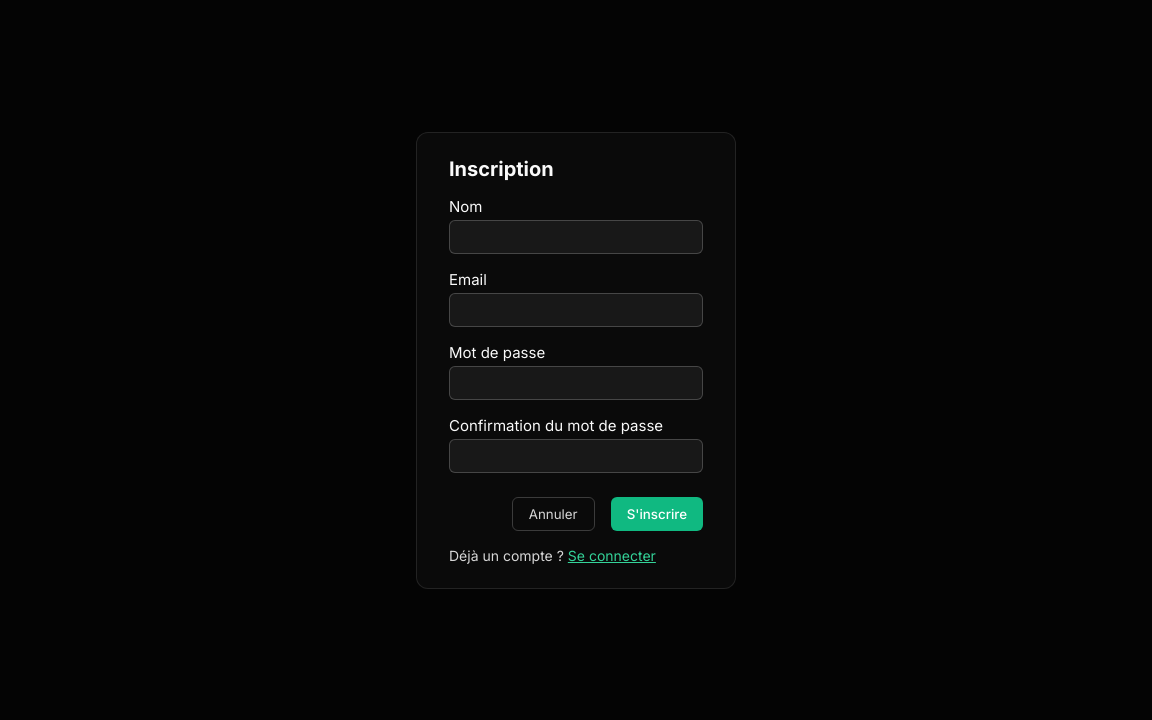
RegisterModal › affiche une erreur en cas d'échec de l'API
Type "Test" into the field labelled "Nom". click: (576, 236)
box: [449,220,703,254]
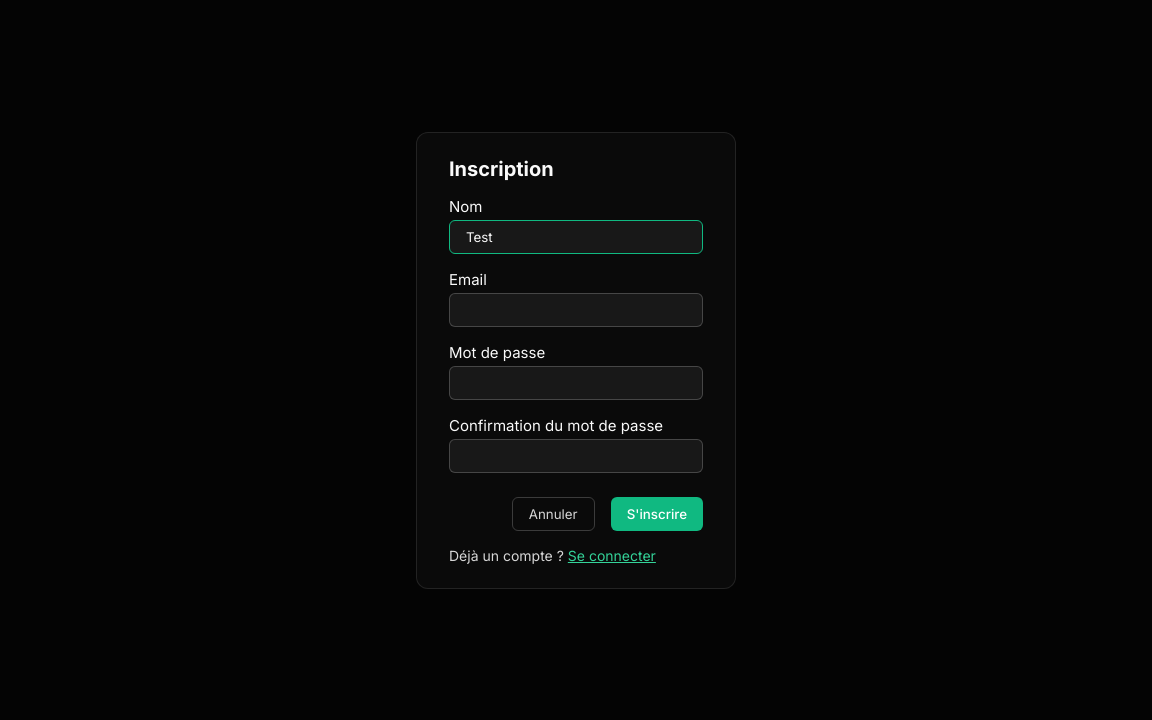
Type "dup@example.com" into the field labelled "Email". click: (576, 310)
box: [449,292,703,326]
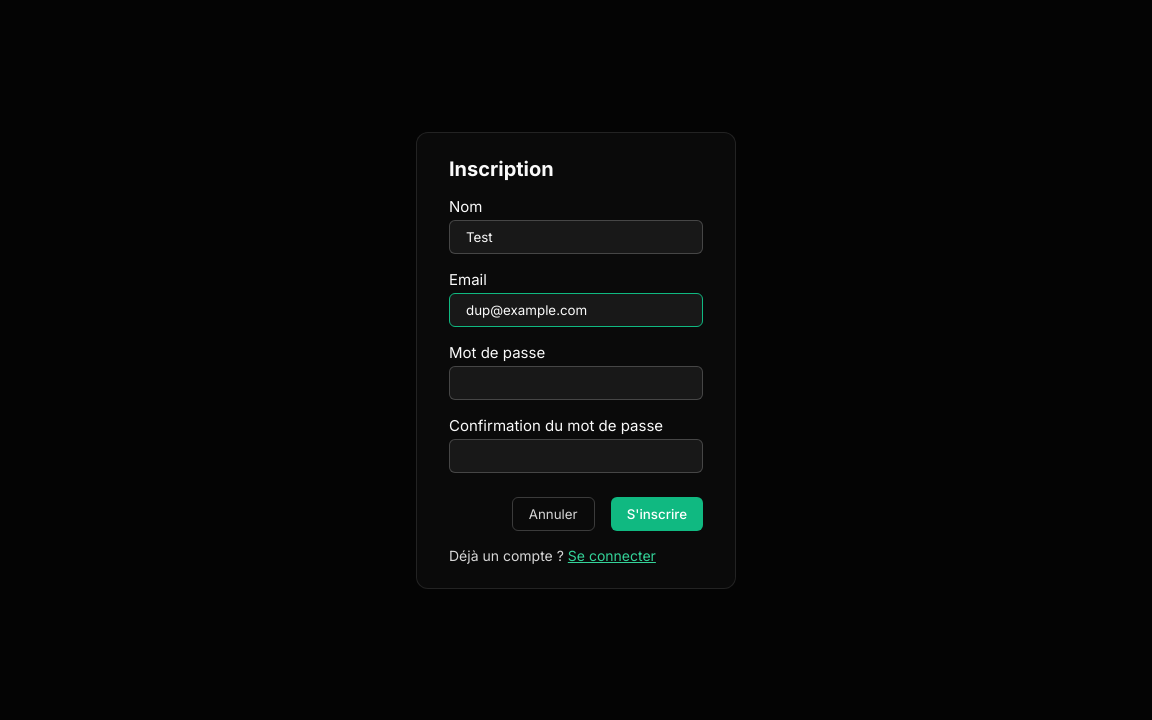
Type "pass" into the password field labelled "Mot de passe". click: (576, 382)
box: [449,366,703,400]
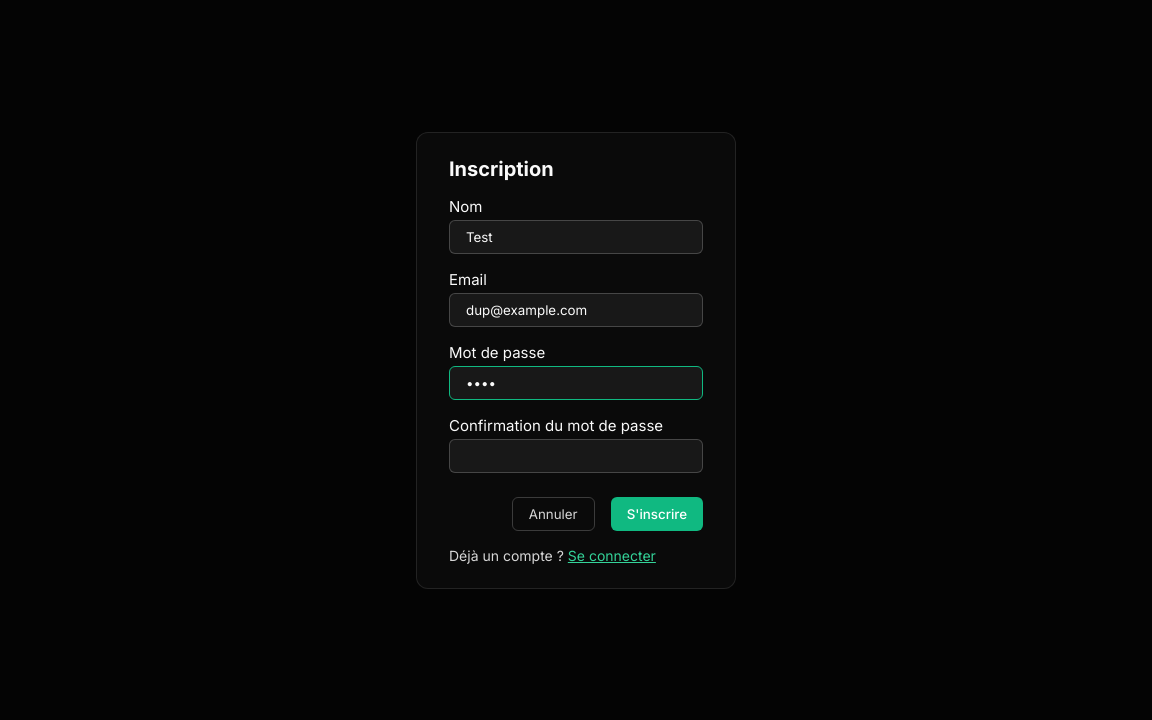
Type "pass" into the password field labelled "Confirmation du mot de passe". click: (576, 456)
box: [449,438,703,472]
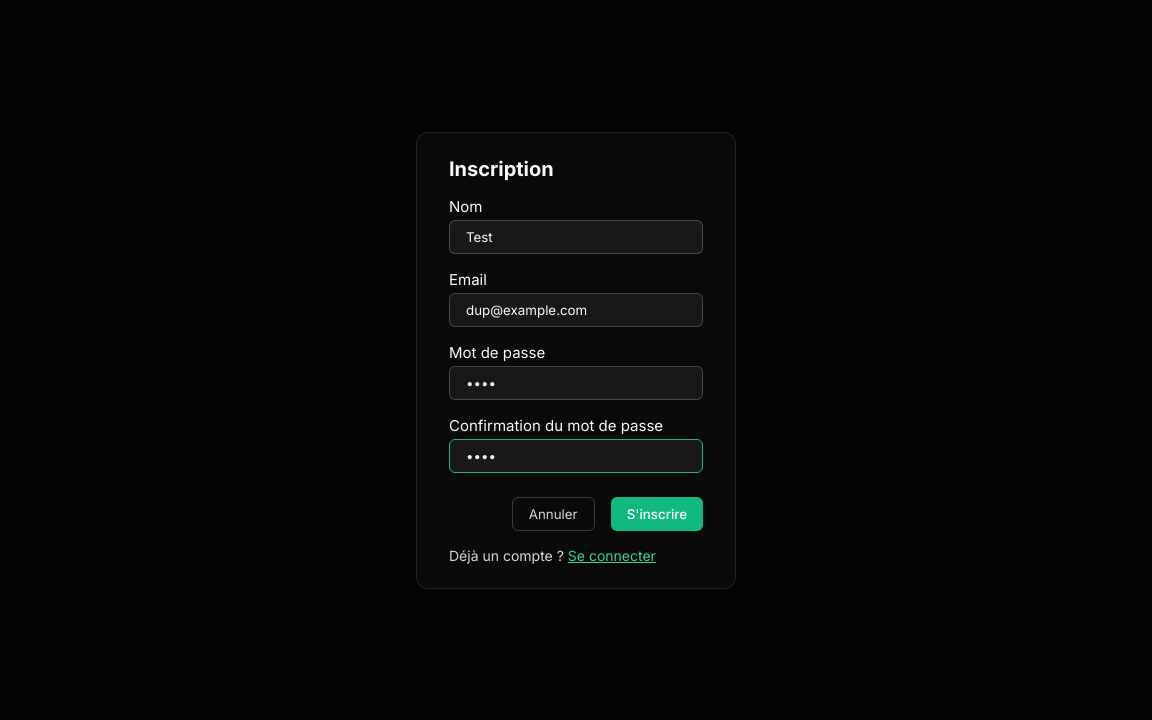
Click the button "S'inscrire". click: (657, 514)
box: [611,496,703,530]
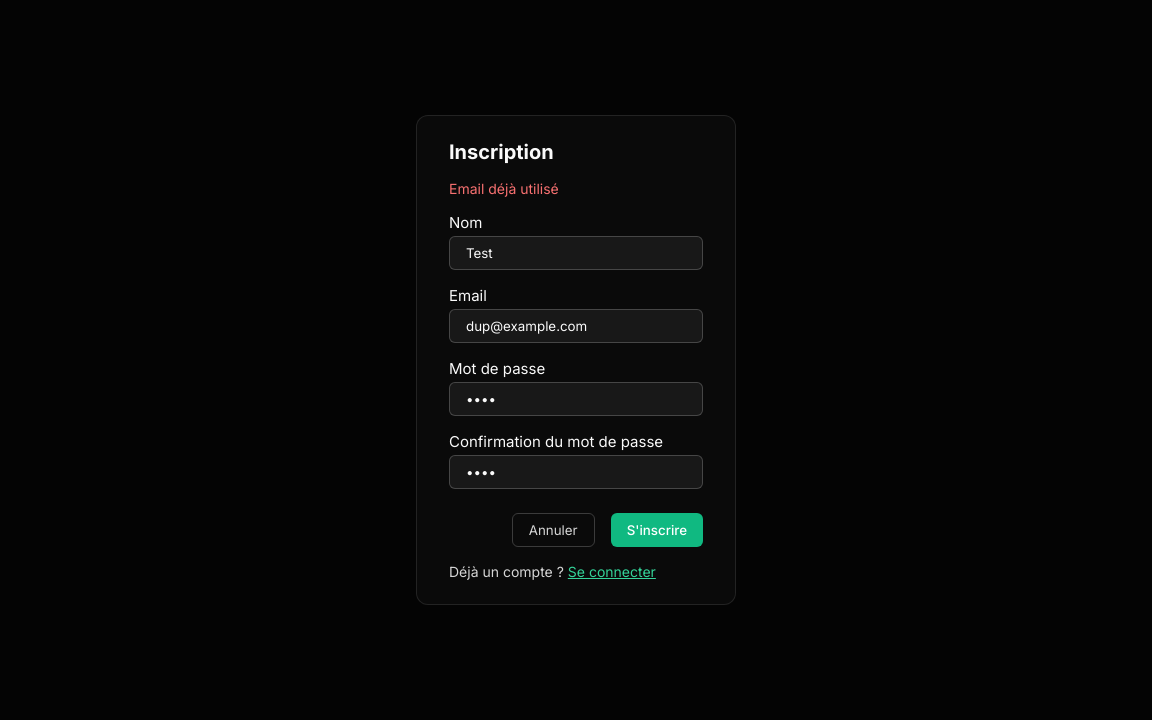
Check: the text "Email déjà utilisé" is shown, box [449,180,559,197]
